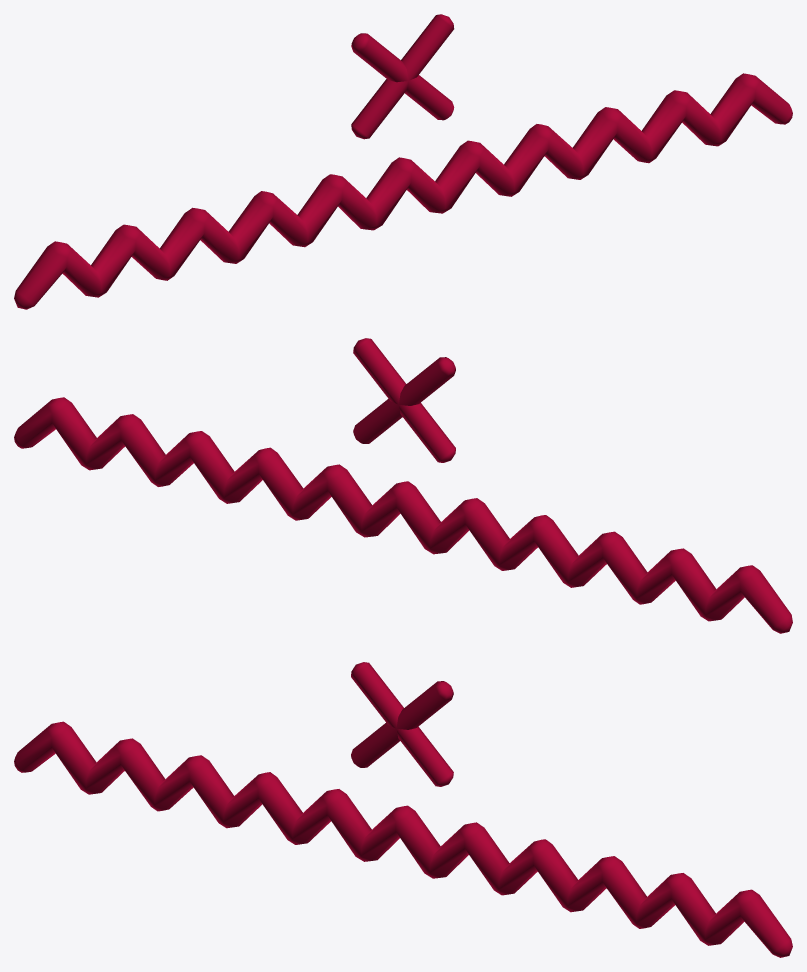
Rendered from Obstacle.fbx.
3 views of the same model, one above another, from view 1: azimuth 30°, elevation 25°; view 2: azimuth 150°, elevation 25°; view 3: azimuth 330°, elevation 25° (orthographic).
Parts seen in each view (by area): view 1: Obstacle1, Obstacle2; view 2: Obstacle1, Obstacle2; view 3: Obstacle1, Obstacle2.
Boxes of the visible parts, <box> form: Obstacle1: <box>14,73,792,309</box>; Obstacle2: <box>351,14,454,139</box>; Obstacle1: <box>14,397,792,633</box>; Obstacle2: <box>353,338,455,462</box>; Obstacle1: <box>14,721,792,957</box>; Obstacle2: <box>351,662,453,786</box>.
Size of the model in its own units: 63.74 by 15.45 by 2.15.
